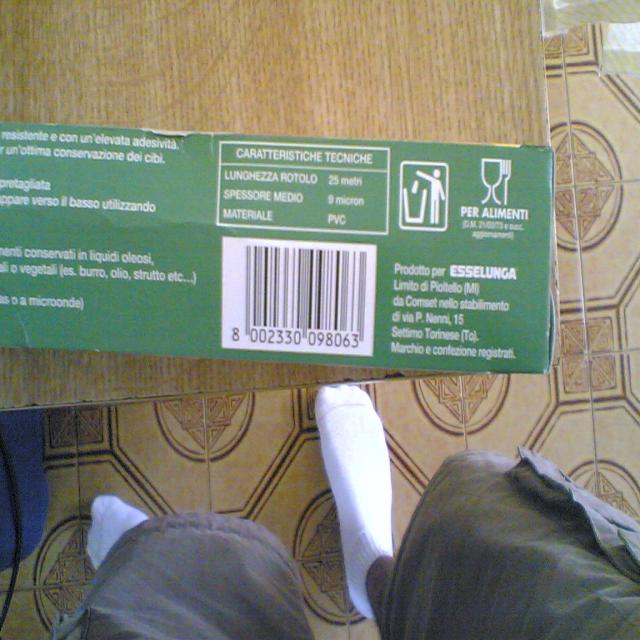barcode: (219, 239, 379, 361)
